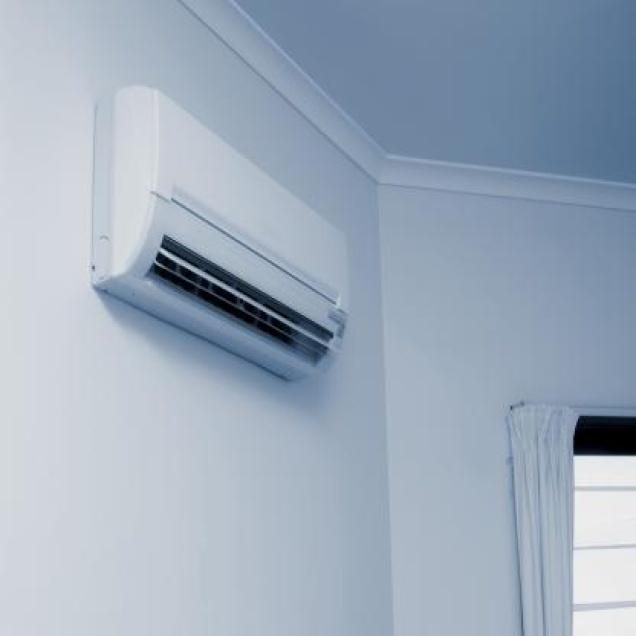AC: (89, 83, 350, 383)
